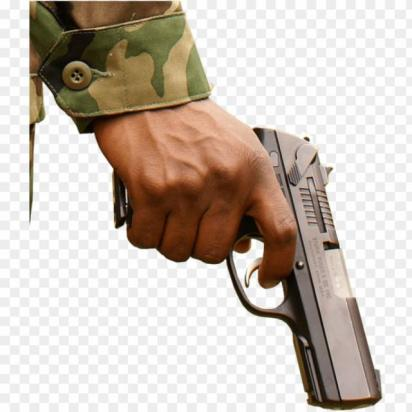Gun: (100, 104, 388, 410)
